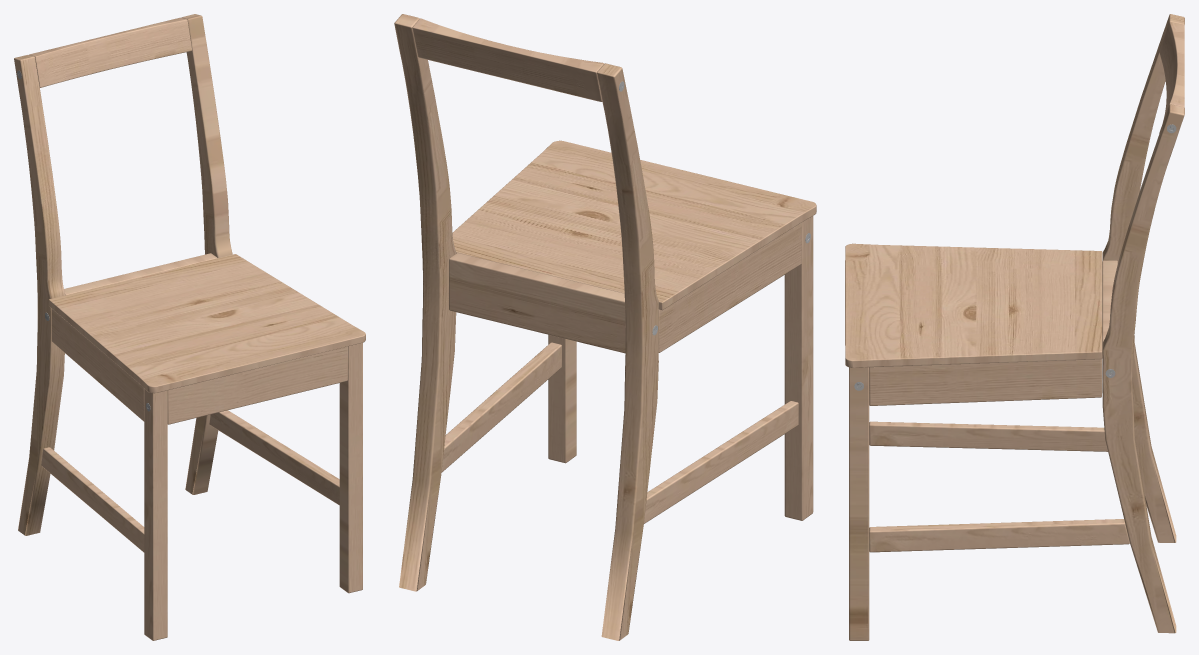
3 views of the same model, side by side, from view 1: azimuth 30°, elevation 25°; view 2: azimuth 150°, elevation 25°; view 3: azimuth 270°, elevation 25° (orthographic). The views are drawn at different scales.
Visible parts, largest first — view 1: Mesh_0; view 2: Mesh_0; view 3: Mesh_0.
Part boxes in pixels (left/top/right/bottom): Mesh_0: left=14, top=14, right=365, bottom=640; Mesh_0: left=394, top=14, right=816, bottom=640; Mesh_0: left=845, top=14, right=1184, bottom=640.
Size of the model in its own units: 0.4 by 0.8299 by 0.49.
1 material, 1 textured.
